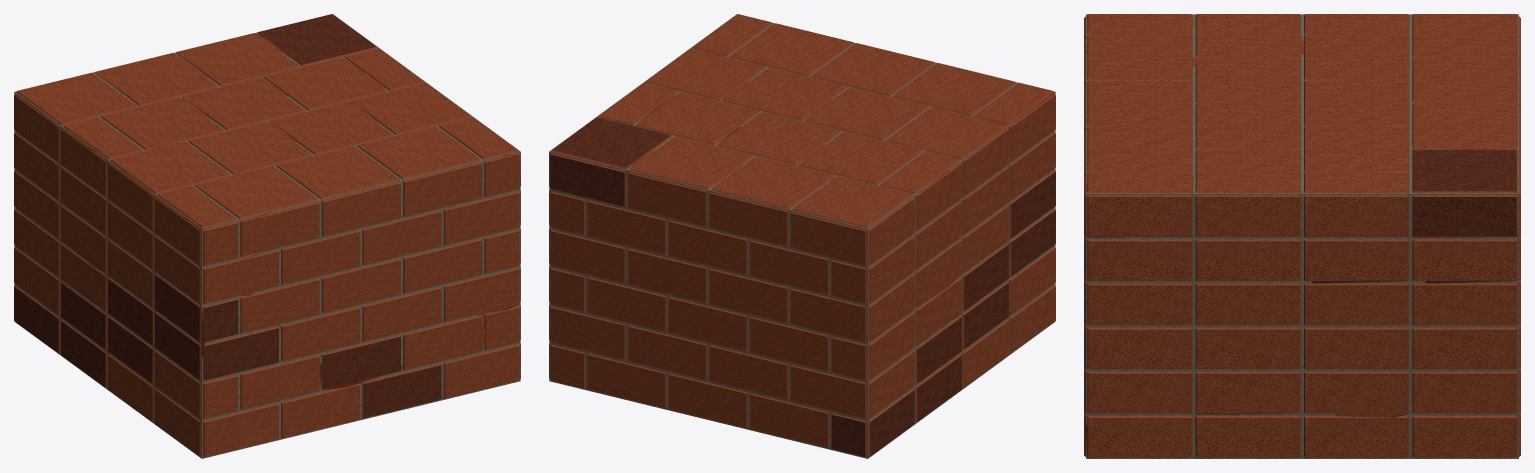
File: brick.glb
The picture shows the model from 3 angles, left to right: view 1: azimuth 30°, elevation 25°; view 2: azimuth 150°, elevation 25°; view 3: azimuth 270°, elevation 25°; orthographic projection. The views are drawn at different scales.
Visible parts, largest first — view 1: BRICK_HP_4, BRICK_HP_3, BRICK_HP_2, BRICK_HP_1; view 2: BRICK_HP_1, BRICK_HP_2, BRICK_HP_3, BRICK_HP_4; view 3: BRICK_HP_3, BRICK_HP_2, BRICK_HP_4, BRICK_HP_1.
Boxes of the visible parts, x1=… form: BRICK_HP_4: x1=228, y1=83, x2=520, y2=391; BRICK_HP_3: x1=108, y1=48, x2=520, y2=439; BRICK_HP_2: x1=61, y1=14, x2=520, y2=458; BRICK_HP_1: x1=14, y1=14, x2=379, y2=389; BRICK_HP_1: x1=549, y1=117, x2=961, y2=458; BRICK_HP_2: x1=550, y1=83, x2=1055, y2=389; BRICK_HP_3: x1=597, y1=14, x2=1055, y2=278; BRICK_HP_4: x1=644, y1=14, x2=1014, y2=130; BRICK_HP_3: x1=1084, y1=14, x2=1410, y2=458; BRICK_HP_2: x1=1084, y1=14, x2=1518, y2=458; BRICK_HP_4: x1=1084, y1=35, x2=1302, y2=371; BRICK_HP_1: x1=1303, y1=14, x2=1520, y2=458.
Size of the model in its own units: 1.98 by 1.36 by 2.02.
1 material, 1 textured.
